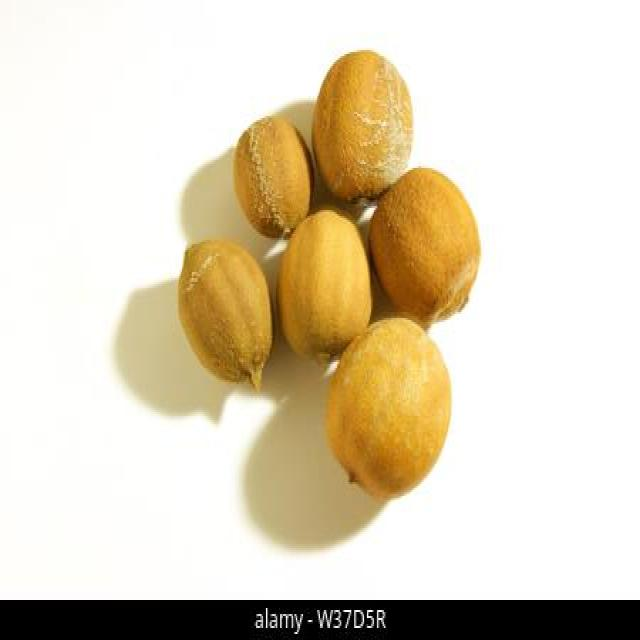overripe: (323, 316, 454, 498), (369, 165, 484, 324), (308, 46, 418, 206), (175, 240, 274, 396), (281, 209, 376, 364), (229, 109, 313, 229)
